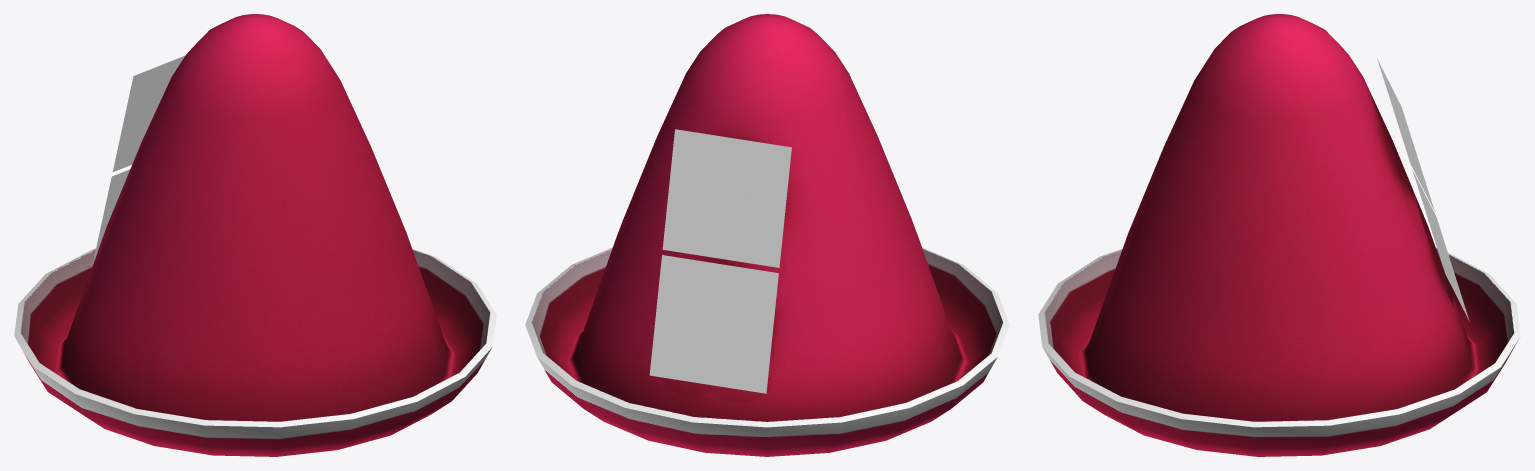
Rendered from clownHat.fbx.
3 views of the same model, side by side, from view 1: azimuth 30°, elevation 25°; view 2: azimuth 150°, elevation 25°; view 3: azimuth 270°, elevation 25° (orthographic).
Visible parts, largest first — view 1: clownHat; view 2: clownHat; view 3: clownHat.
Boxes of the visible parts, bbox=[...] form: clownHat: bbox=[14, 14, 496, 456]; clownHat: bbox=[525, 14, 1009, 456]; clownHat: bbox=[1038, 14, 1520, 456].
Size of the model in its own units: 0.1391 by 0.1121 by 0.1391.
